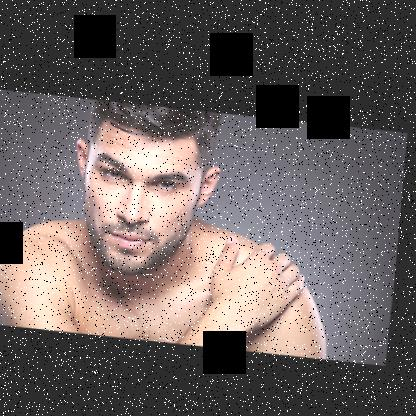Male: (68, 115, 225, 275)
